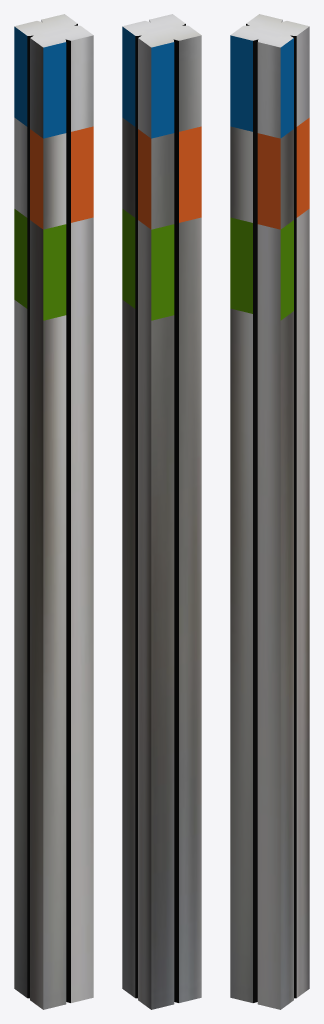
Rendered from sign_001a.fbx.
3 views of the same model, side by side, from view 1: azimuth 30°, elevation 25°; view 2: azimuth 210°, elevation 25°; view 3: azimuth 330°, elevation 25° (orthographic).
Parts seen in each view (by area): view 1: signB_005; view 2: signB_005; view 3: signB_005.
Part boxes in pixels (x1,y1,x2,y2): signB_005: [14, 14, 93, 1009]; signB_005: [122, 14, 201, 1009]; signB_005: [230, 14, 309, 1009].
Size of the model in its own units: 13.71 by 13.71 by 250.
